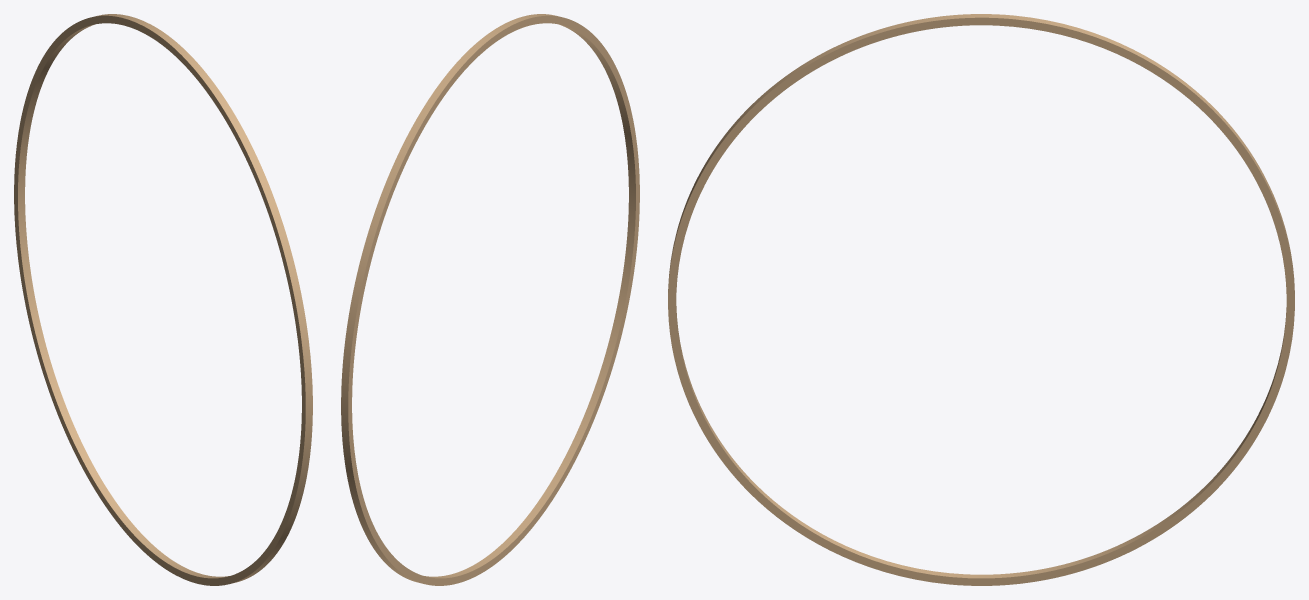
Rendered from bypass-throat-lip.glb.
3 renders of one model, left to right at view 1: azimuth 30°, elevation 25°; view 2: azimuth 150°, elevation 25°; view 3: azimuth 270°, elevation 25°, orthographic. The views are drawn at different scales.
Parts seen in each view (by area): view 1: bypass-throat-lip - bronze; view 2: bypass-throat-lip - bronze; view 3: bypass-throat-lip - bronze.
Part boxes in pixels (x1,y1,x2,y2): bypass-throat-lip - bronze: (14,14,312,585); bypass-throat-lip - bronze: (341,14,639,585); bypass-throat-lip - bronze: (668,14,1294,585).
Bounding box in the file's own units: 0.032 × 2.26 × 2.26.
